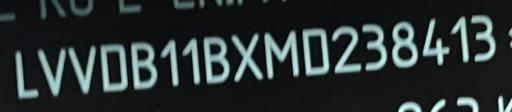letter: (263, 28, 301, 78), (298, 25, 332, 78), (229, 31, 263, 83), (64, 44, 98, 96), (97, 42, 131, 93), (34, 48, 68, 98), (386, 19, 420, 67), (152, 37, 184, 88), (127, 40, 159, 91), (329, 23, 361, 73), (200, 32, 230, 84), (470, 10, 498, 63), (419, 16, 449, 65), (360, 22, 388, 70), (14, 49, 40, 100), (446, 13, 472, 63), (180, 35, 204, 84)
